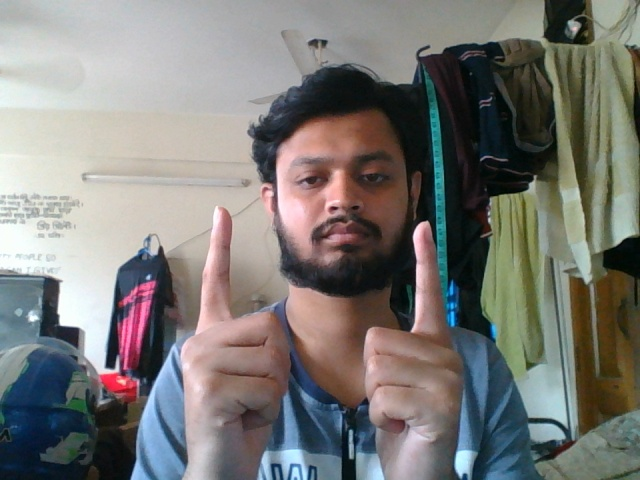ishara: (169, 202, 471, 480)
